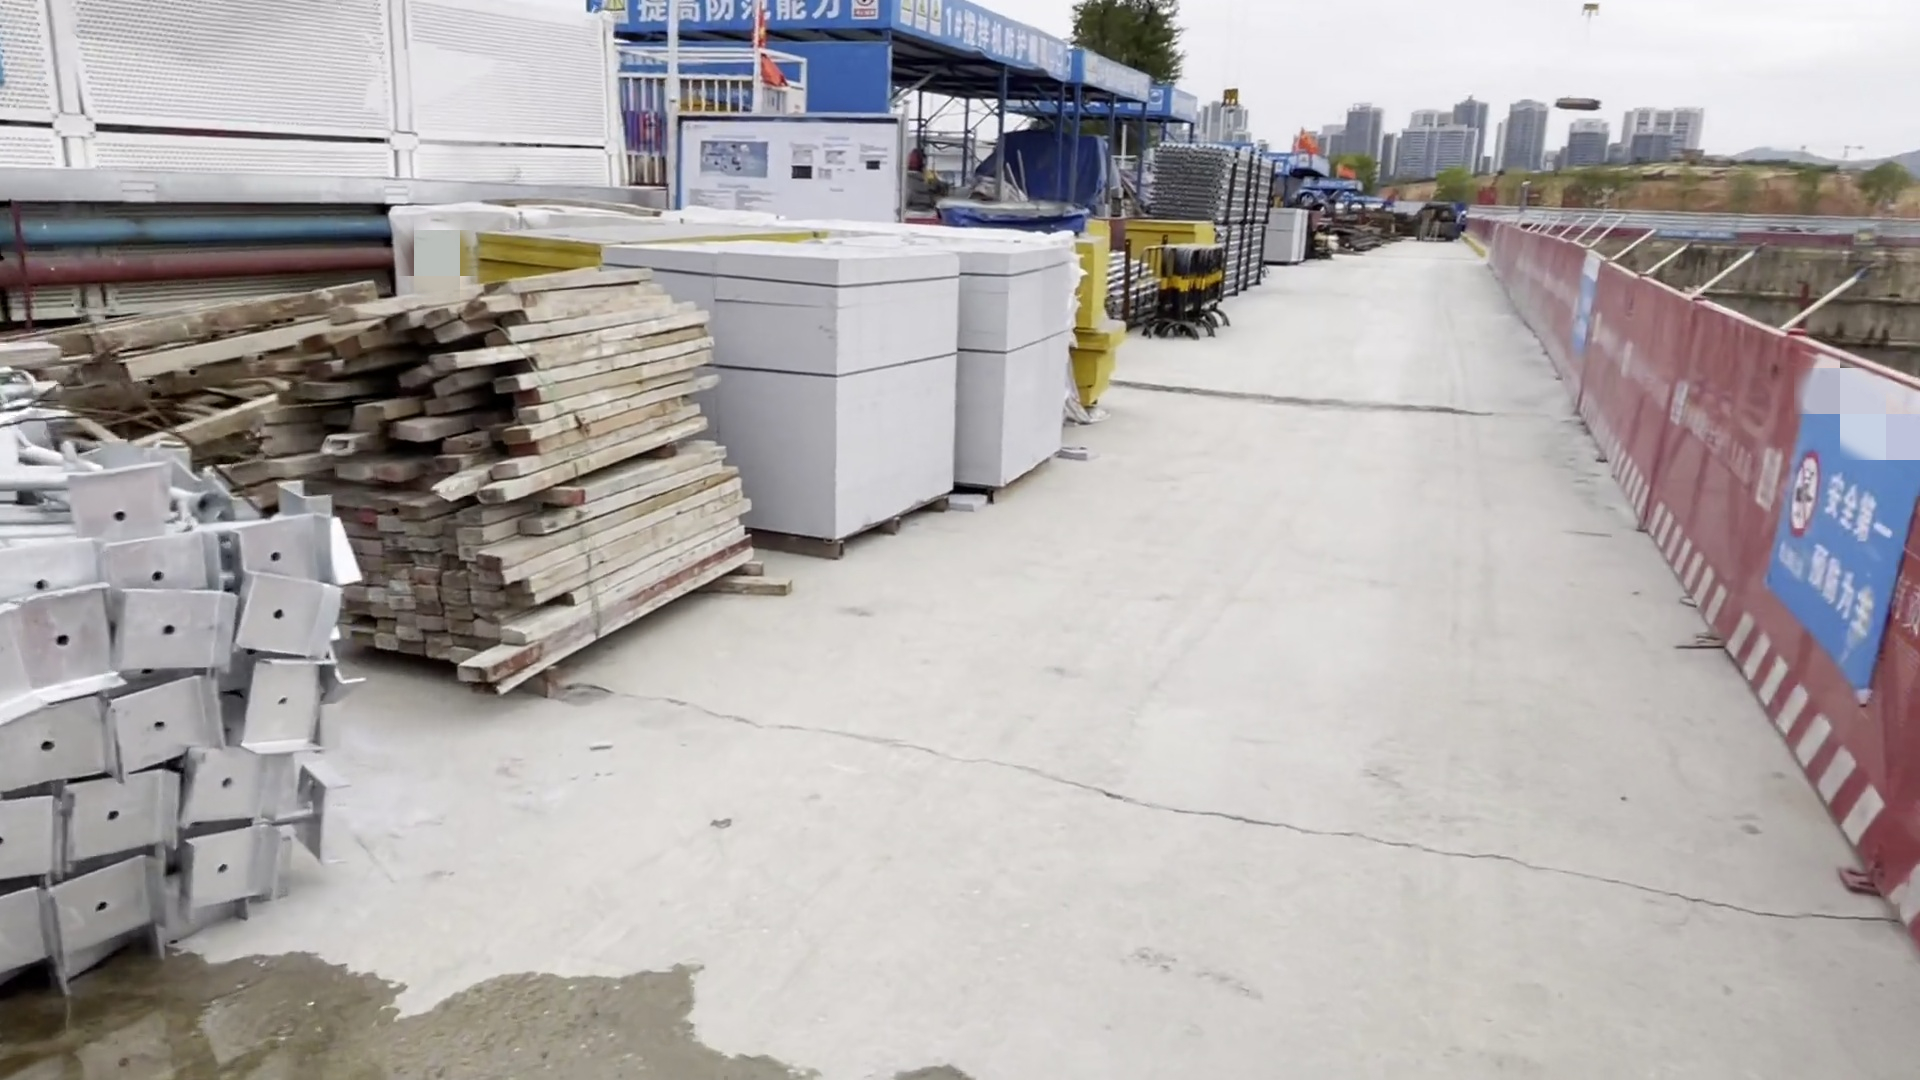brick: (659, 235, 1080, 556)
fence: (1486, 220, 1920, 984)
slogan: (1687, 369, 1920, 695)
wood: (273, 281, 752, 705)
